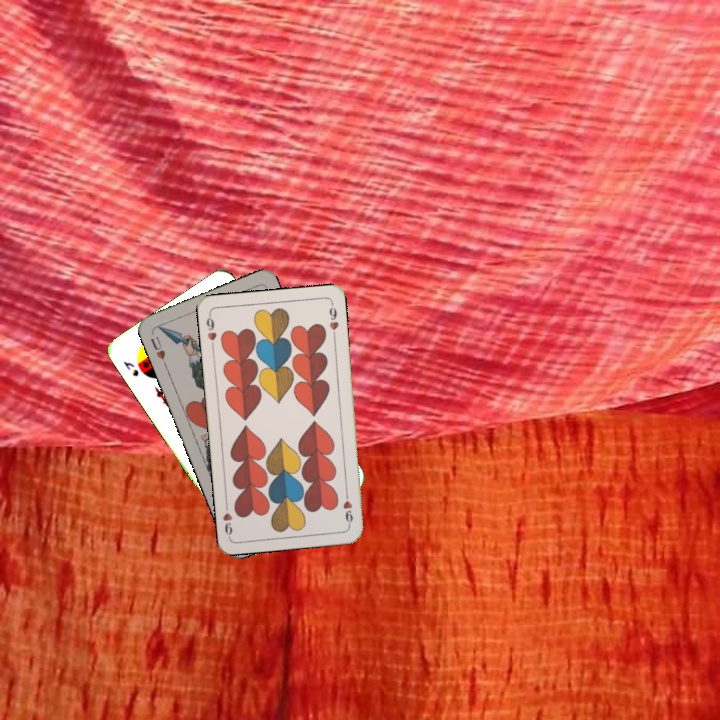H9: (202, 310, 219, 351), (339, 487, 355, 528)
HU: (146, 332, 169, 368)
SK: (119, 357, 141, 379)
